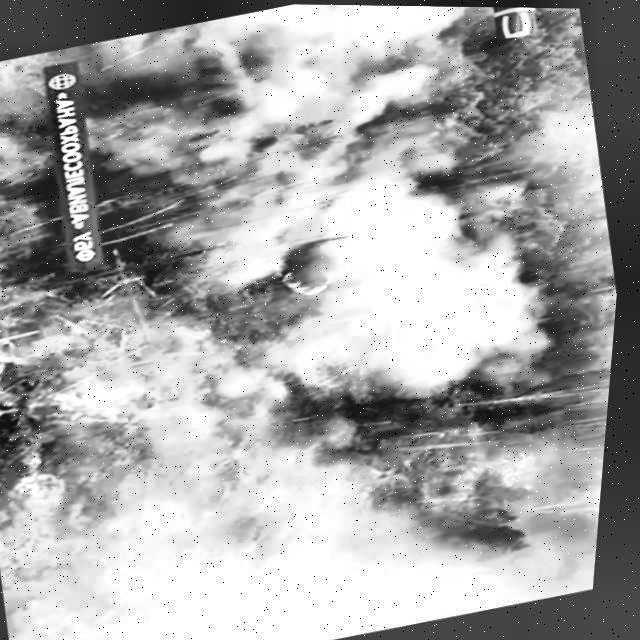Smoke: (235, 113, 561, 424), (129, 2, 452, 171)
